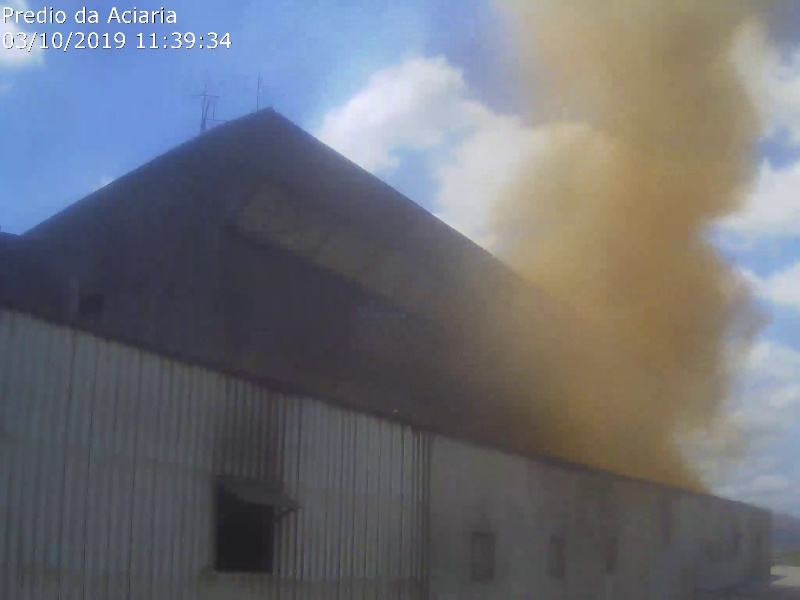bom: (3, 4, 281, 162)
pessimo: (477, 2, 792, 504)
